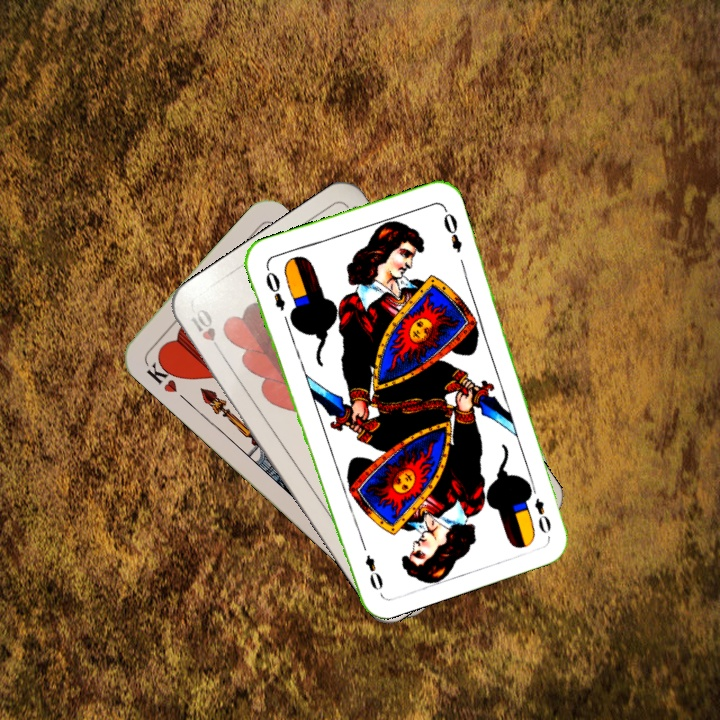EO: (525, 480, 554, 536), (261, 263, 288, 313)
H10: (186, 304, 226, 359)
HK: (141, 353, 184, 396)
